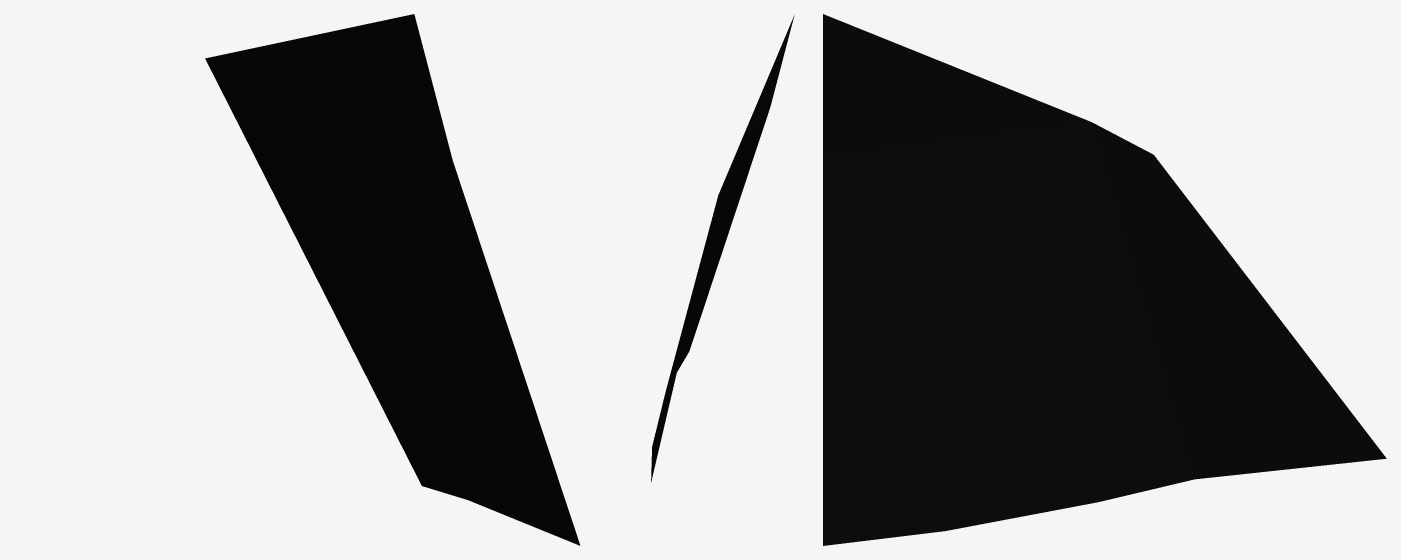
The picture shows the model from 3 angles, left to right: view 1: azimuth 30°, elevation 25°; view 2: azimuth 150°, elevation 25°; view 3: azimuth 270°, elevation 25°; orthographic projection. The views are drawn at different scales.
Bounding box in the file's own units: 0.9842 × 2.45 × 2.69.
Materials: 2 (2 with a texture image).
